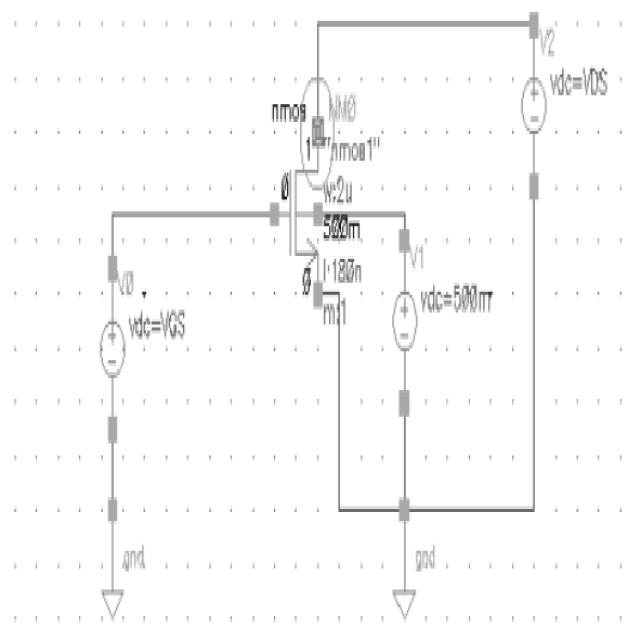nmos: (264, 92, 326, 315)
vdc: (93, 262, 136, 454), (382, 230, 423, 424), (514, 33, 552, 219)
